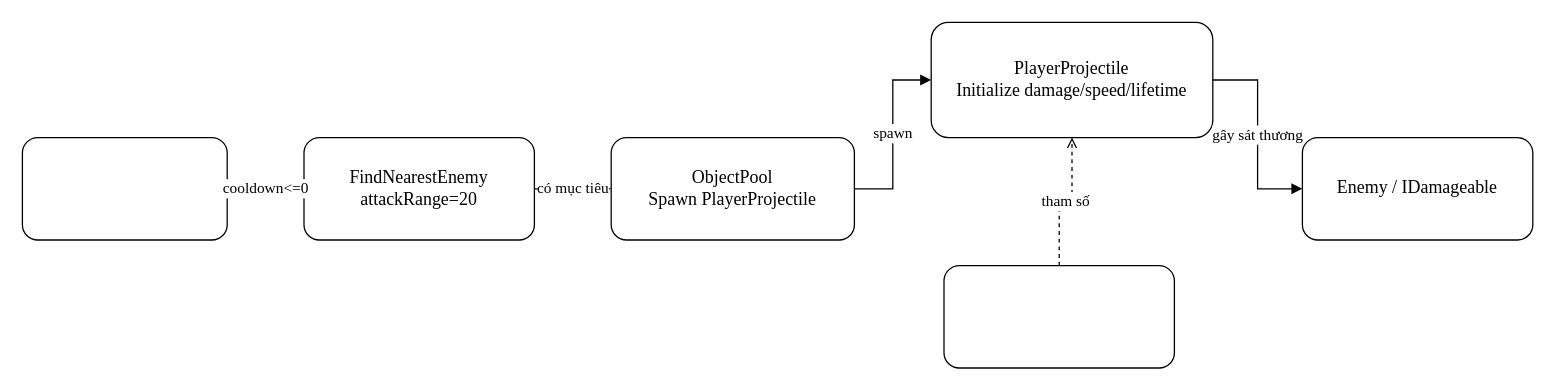
The diagram is 1555 pixels wide and 390 high, and some of its shapes have lost their labels. Each missing label, with the centre of its shape:
Extra Buff Data multishot / AoE: pixel 1058 316
PlayerAttack: pixel 124 188
